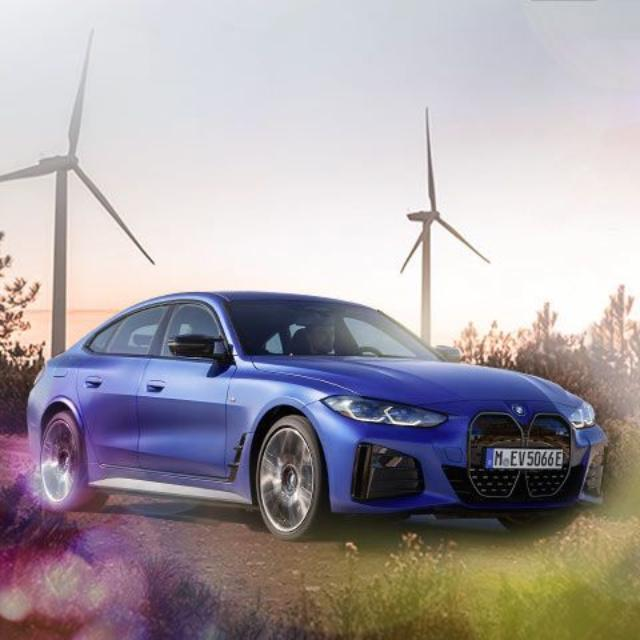bmw: (26, 291, 608, 541)
